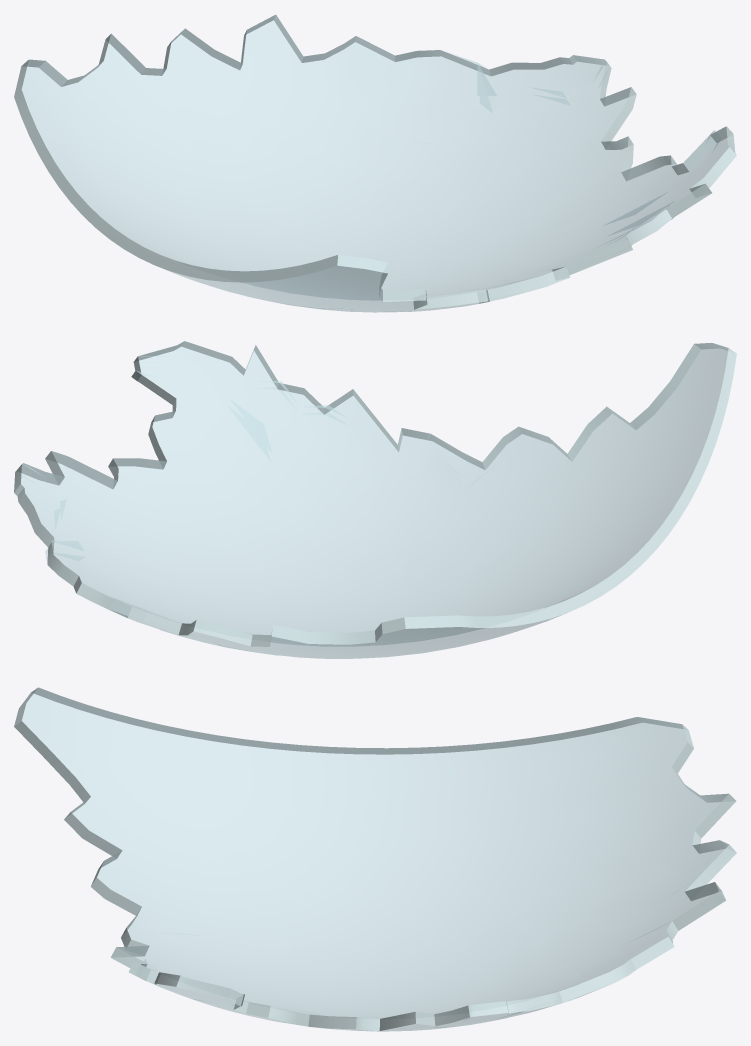
The model's file is SM_DomeShard_5.fbx.
3 views of the same model, one above another, from view 1: azimuth 30°, elevation 25°; view 2: azimuth 150°, elevation 25°; view 3: azimuth 270°, elevation 25° (orthographic). The views are drawn at different scales.
Parts seen in each view (by area): view 1: SM_DomeShard_5; view 2: SM_DomeShard_5; view 3: SM_DomeShard_5.
Part boxes in pixels (x1,y1,x2,y2): SM_DomeShard_5: [14, 14, 736, 312]; SM_DomeShard_5: [14, 341, 736, 658]; SM_DomeShard_5: [14, 687, 736, 1031].
Bounding box in the file's own units: 1.06 × 0.3321 × 1.18.
